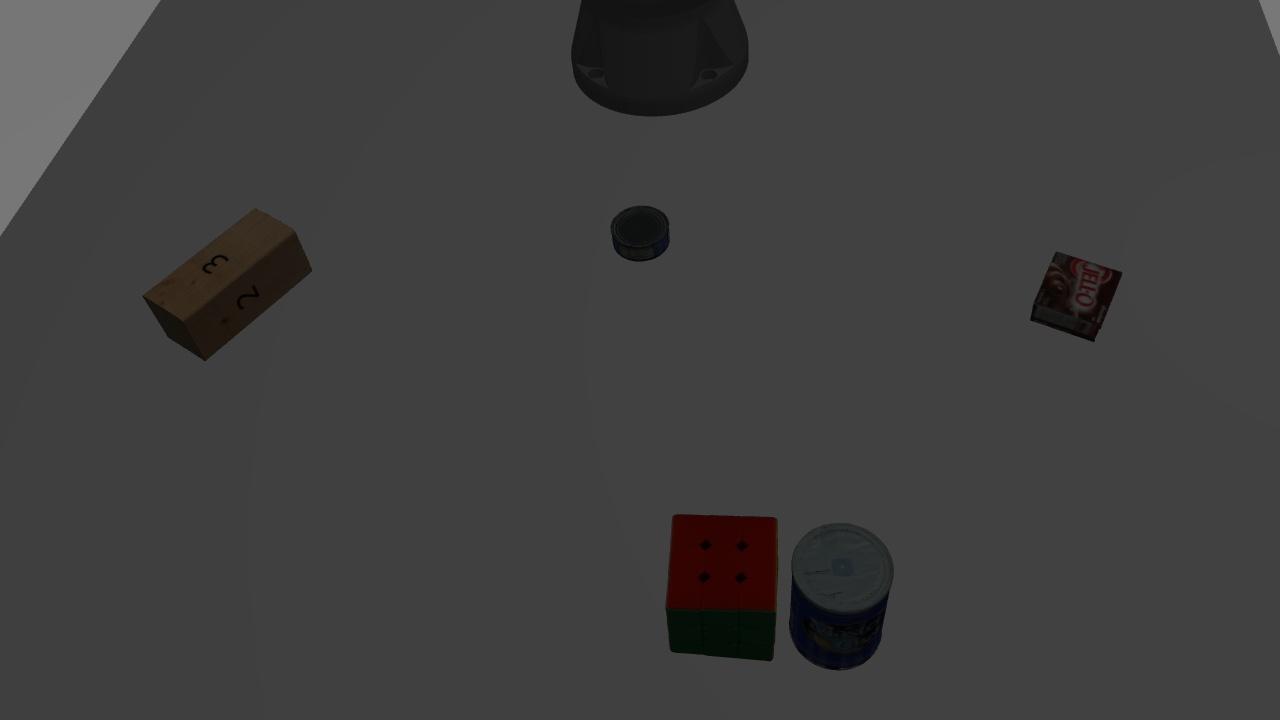master_chef_can: (784, 506, 892, 677)
pudding_box: (1023, 248, 1121, 344)
rubiks_cube: (661, 504, 784, 674)
tuna_fish_can: (608, 205, 670, 265)
wood_block: (137, 196, 320, 368)
